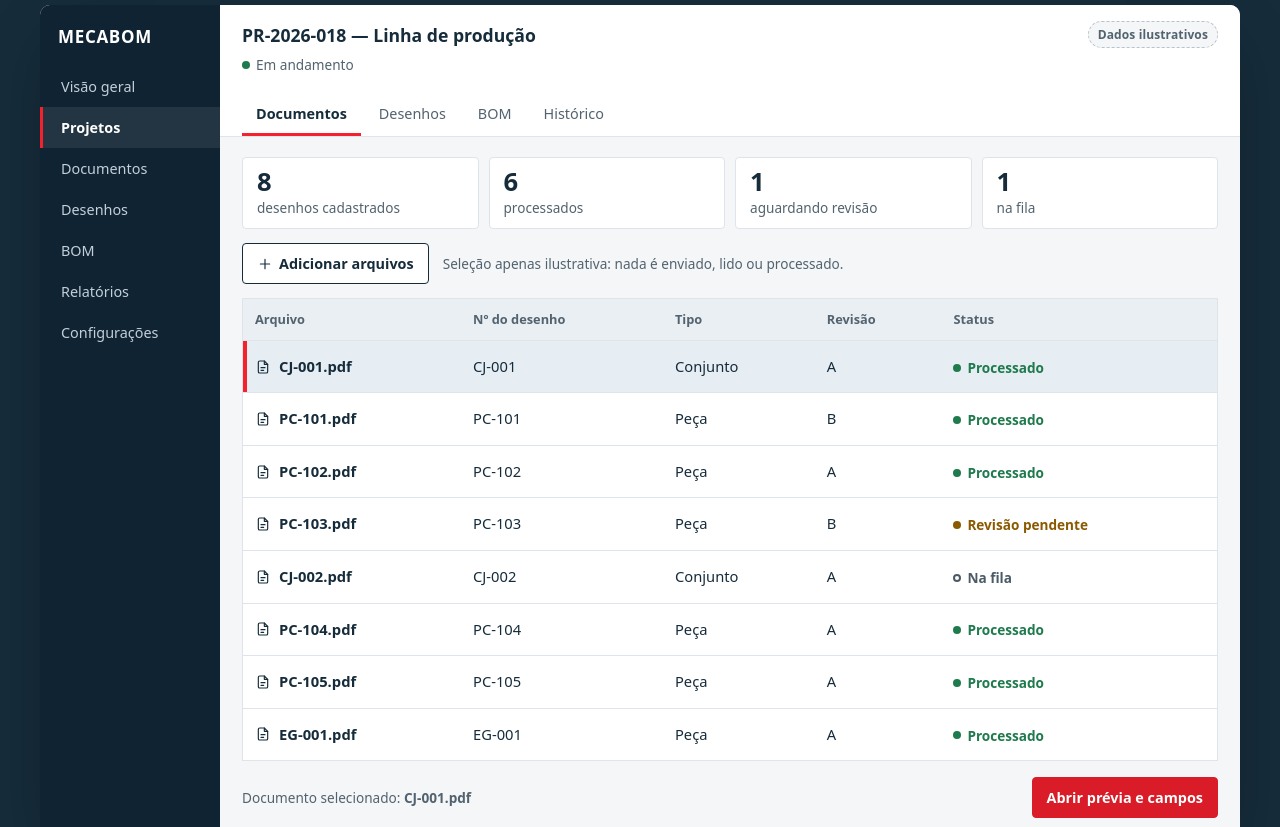
ProductDemo › etapa 2 sem PDF de exemplo avisa em vez de inventar campos
(page scrolled)
Step 1. Click the button "PC-101.pdf" → (306, 419), box [255,403,356,435]
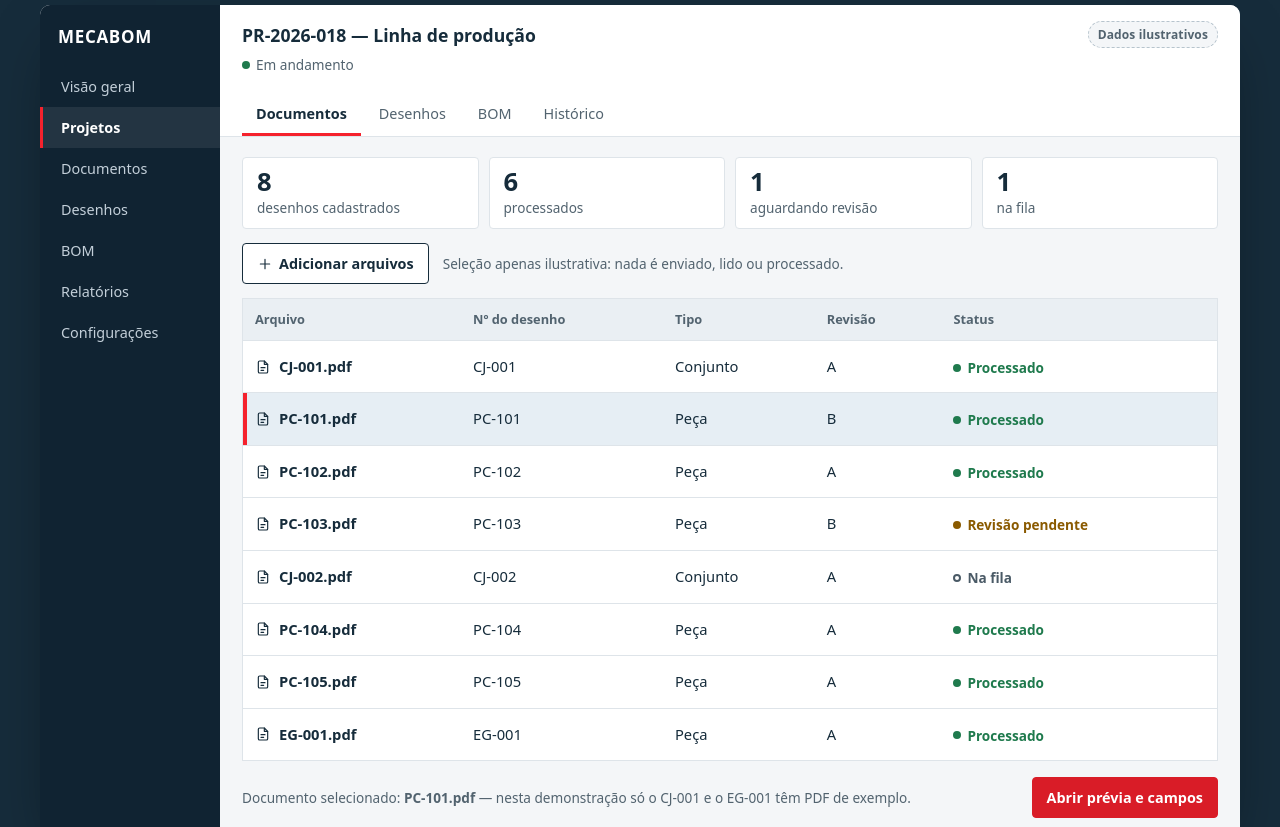
Step 2. Click the button "Abrir prévia e campos" → (1125, 798), box [1032,777,1218,818]
(page scrolled)
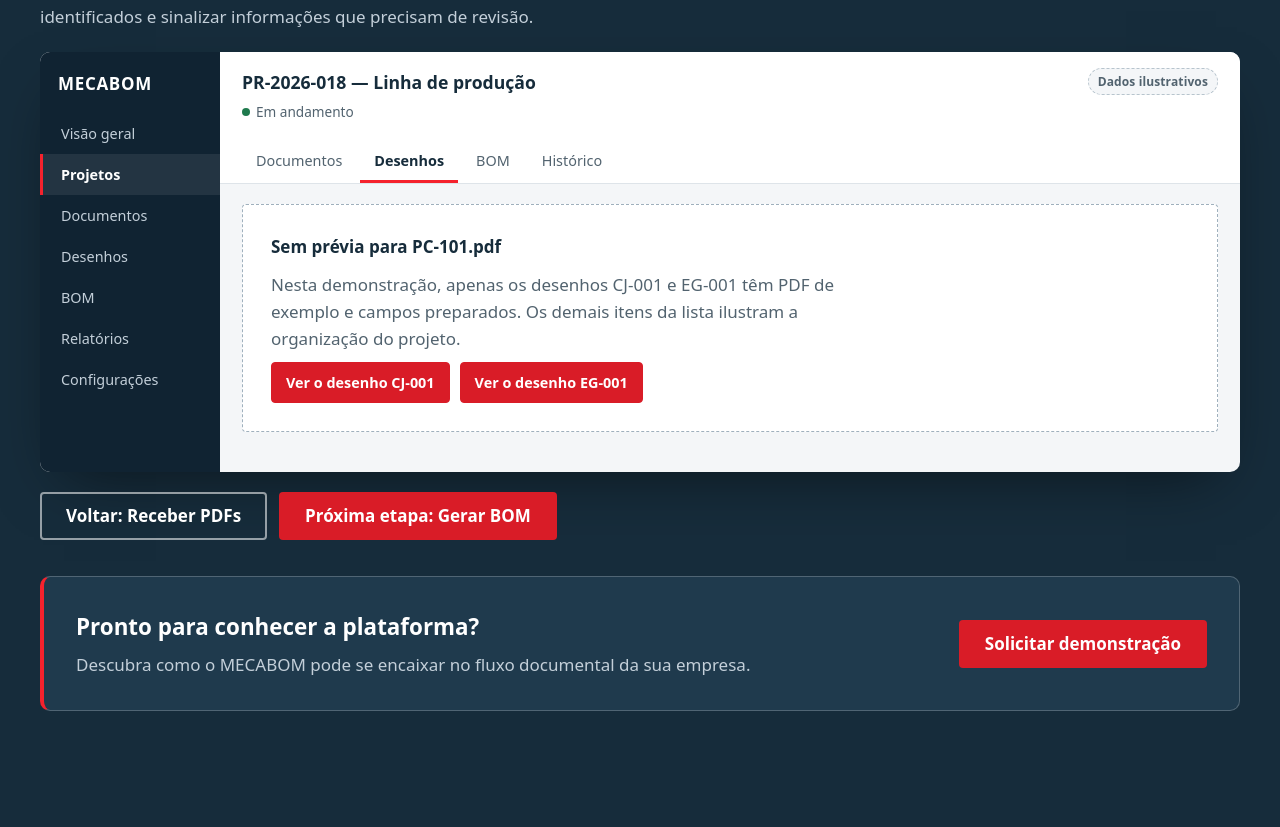
Expected: the heading "Sem prévia para PC-101.pdf" is shown, [271,233,501,261]
